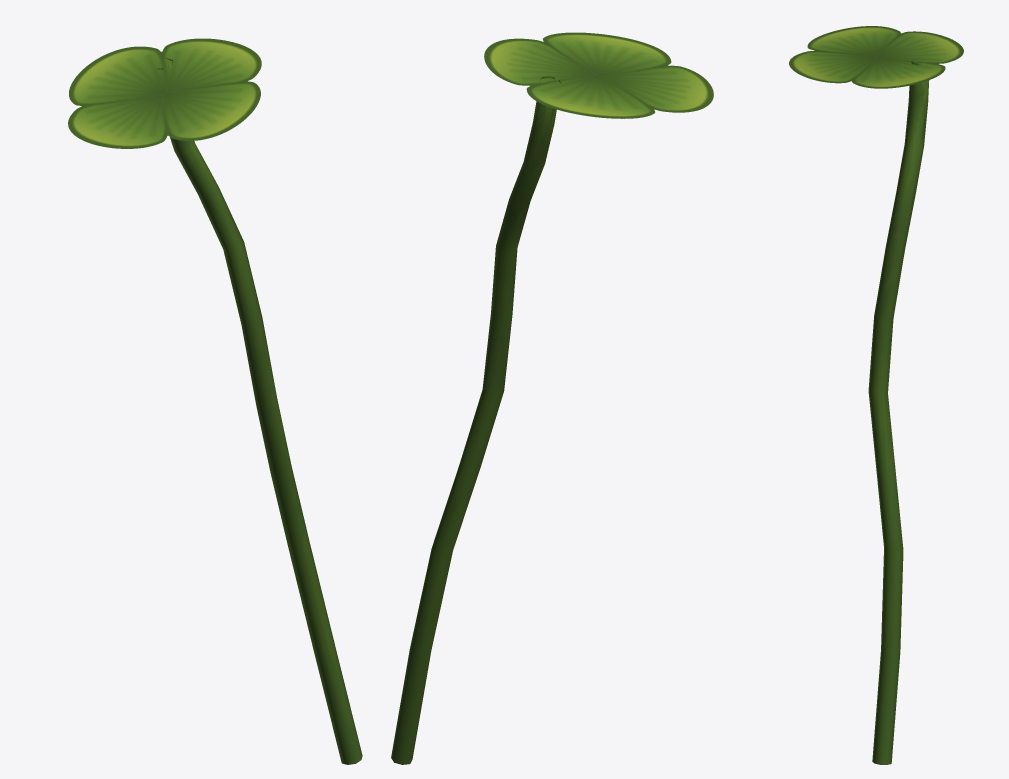
File: LillypadBob.fbx
3 views of the same model, side by side, from view 1: azimuth 30°, elevation 25°; view 2: azimuth 150°, elevation 25°; view 3: azimuth 270°, elevation 25° (orthographic). The views are drawn at different scales.
Parts seen in each view (by area): view 1: RoofTile, LillypadBase (2); view 2: LillypadBase (2), RoofTile; view 3: LillypadBase (2), RoofTile.
Part boxes in pixels (x1,y1,x2,y2): RoofTile: (68, 38, 261, 148); LillypadBase (2): (157, 58, 362, 764); LillypadBase (2): (391, 76, 561, 764); RoofTile: (484, 32, 713, 118); LillypadBase (2): (868, 59, 929, 764); RoofTile: (789, 26, 963, 88).
Size of the model in its own units: 1.02 by 2.2 by 0.7356.
